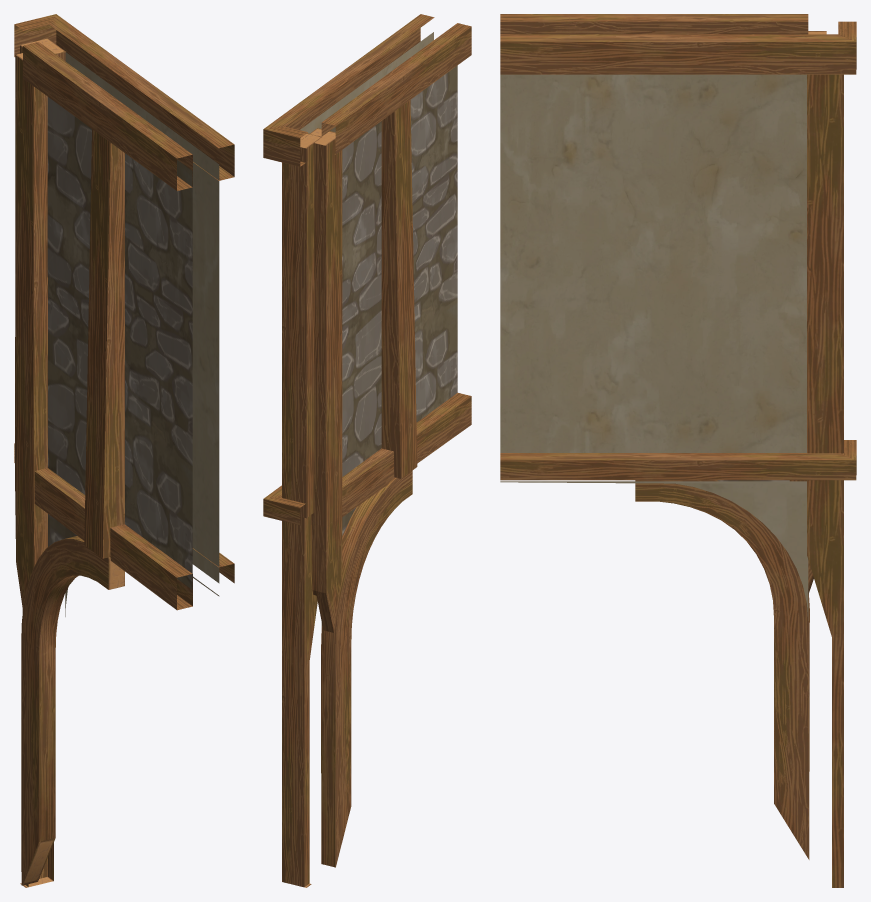
File: Overhang_Side_UnevenBrick_Long_L.gltf
3 views of the same model, side by side, from view 1: azimuth 30°, elevation 25°; view 2: azimuth 150°, elevation 25°; view 3: azimuth 270°, elevation 25° (orthographic). The views are drawn at different scales.
Parts seen in each view (by area): view 1: Overhang_Side_UnevenBrick_Long_L; view 2: Overhang_Side_UnevenBrick_Long_L; view 3: Overhang_Side_UnevenBrick_Long_L.
Boxes of the visible parts, bbox=[...] form: Overhang_Side_UnevenBrick_Long_L: bbox=[14, 14, 234, 887]; Overhang_Side_UnevenBrick_Long_L: bbox=[263, 14, 471, 887]; Overhang_Side_UnevenBrick_Long_L: bbox=[500, 14, 856, 887].
Size of the model in its own units: 0.4793 by 6.12 by 2.31.
Materials: 3 (3 with a texture image).
